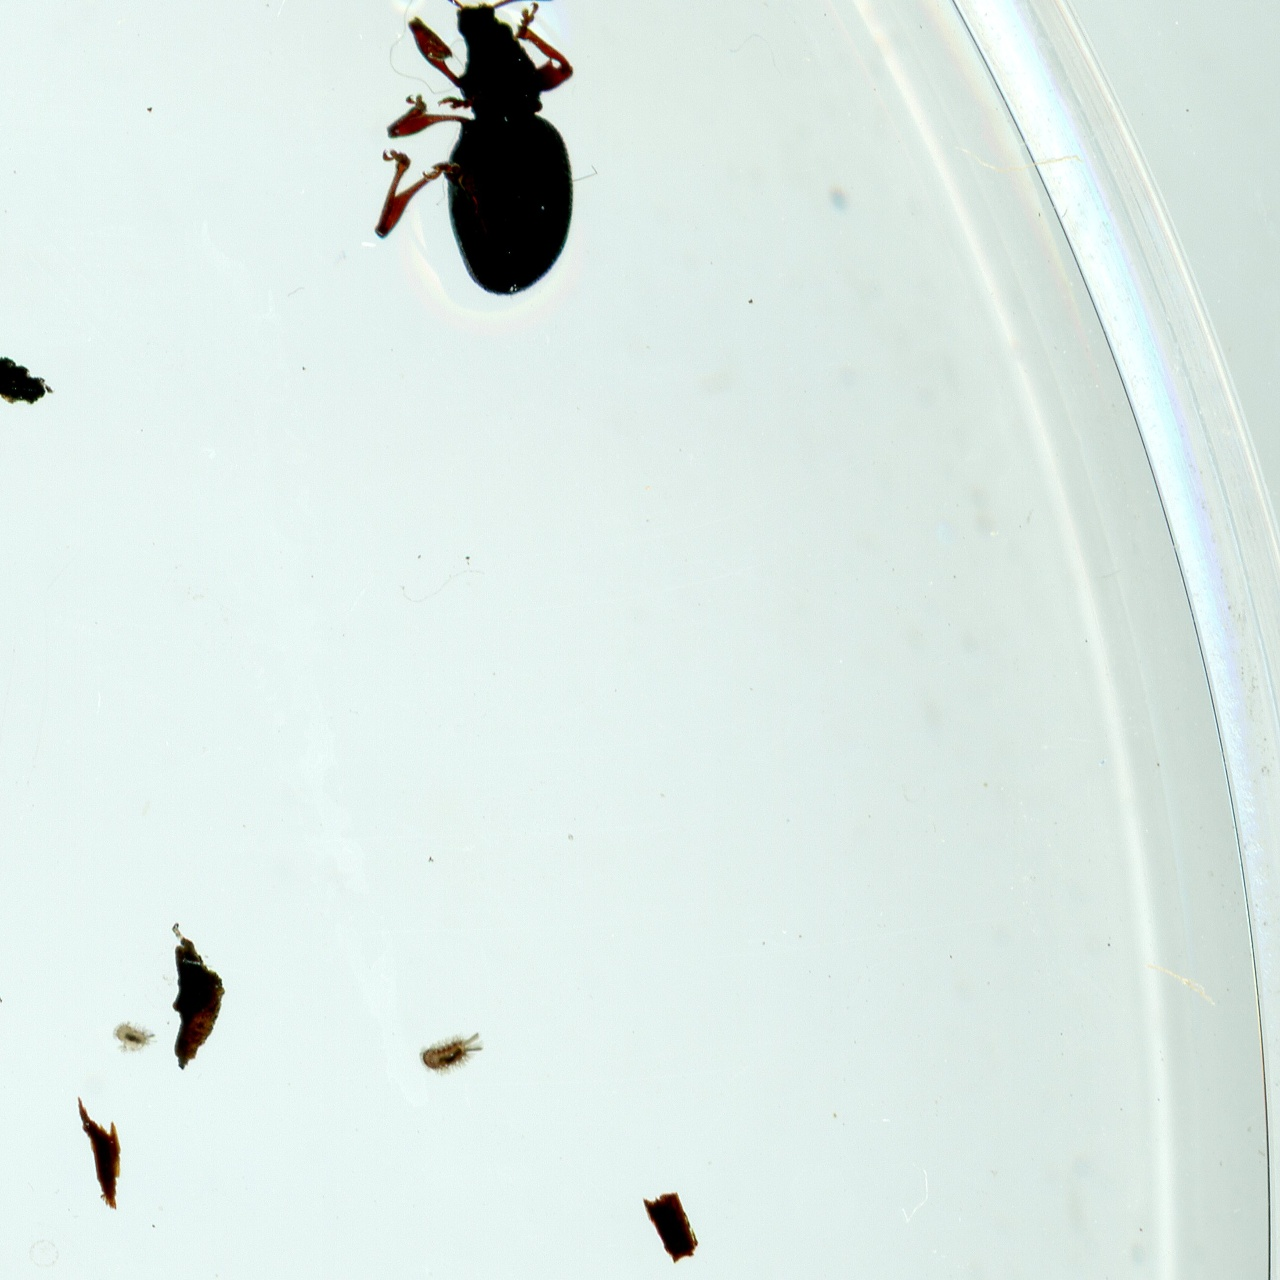arthropod: (369, 0, 578, 303), (407, 1017, 497, 1088), (108, 1016, 164, 1059)
